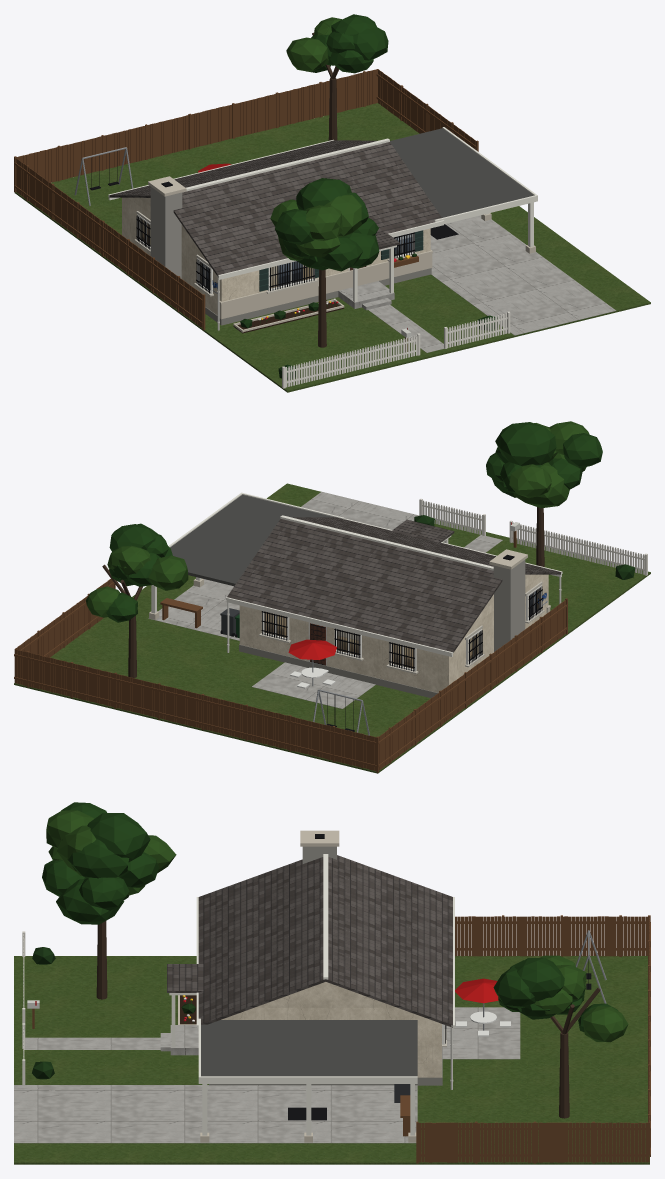
Rendered from HouseC.glb.
3 renders of one model, top to bottom at view 1: azimuth 30°, elevation 25°; view 2: azimuth 150°, elevation 25°; view 3: azimuth 270°, elevation 25°, orthographic. The views are drawn at different scales.
Visible parts, largest first — view 1: Lawn, Wood, Roof, Concrete, Leaf, Flat, LeafB, Stone, Picket, Trim, Walls, Block (+7 smaller); view 2: Roof, Lawn, Wood, Concrete, Leaf, Walls, Flat, LeafB, Picket, Trim, Block, WinIron (+7 smaller); view 3: Lawn, Roof, Concrete, Wood, Flat, Leaf, Walls, LeafB, Trim, Bark, Stone, Red (+3 smaller).
Part boxes in pixels (x1,y1,x2,y2): Lawn: [14, 103, 650, 392]; Wood: [14, 69, 478, 352]; Roof: [109, 140, 441, 276]; Concrete: [338, 215, 616, 352]; Leaf: [275, 14, 388, 271]; Flat: [390, 128, 533, 217]; LeafB: [270, 17, 361, 260]; Stone: [148, 176, 535, 332]; Picket: [282, 311, 510, 388]; Trim: [108, 127, 537, 302]; Walls: [122, 197, 430, 315]; Block: [150, 187, 182, 278]; Roof: [227, 517, 561, 652]; Lawn: [14, 483, 650, 773]; Wood: [14, 530, 567, 772]; Concrete: [148, 491, 502, 708]; Leaf: [106, 422, 602, 622]; Walls: [239, 574, 548, 692]; Flat: [170, 494, 333, 586]; LeafB: [86, 421, 589, 617]; Picket: [419, 498, 647, 575]; Trim: [151, 492, 562, 656]; Block: [493, 560, 525, 651]; WinIron: [261, 586, 542, 671]; Lawn: [14, 956, 649, 1164]; Roof: [167, 855, 452, 1027]; Concrete: [14, 1007, 520, 1143]; Wood: [32, 915, 650, 1163]; Flat: [201, 1020, 417, 1076]; Leaf: [42, 802, 618, 1031]; Walls: [221, 982, 441, 1077]; LeafB: [46, 810, 628, 1042]; Trim: [169, 854, 454, 1135]; Bark: [96, 921, 600, 1118]; Stone: [178, 830, 416, 1142]; Red: [35, 978, 498, 1005].
Bounding box in the file's own units: 72.23 × 30.48 × 93.75.
Materials: 44 (44 with a texture image).
